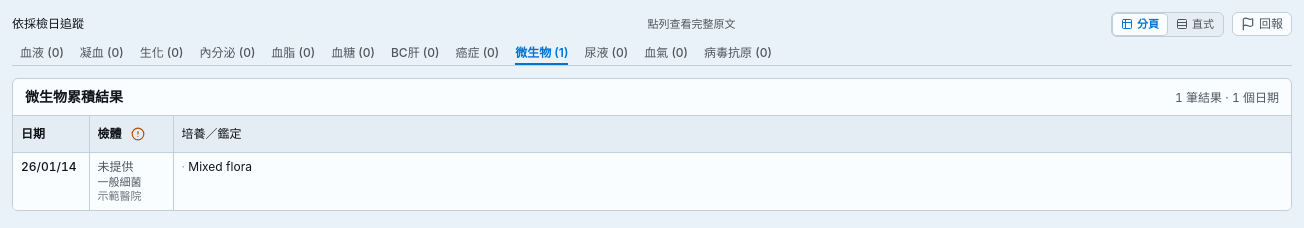
Test: MicrobiologyCumulativeView › keeps a missing specimen low-confidence without inventing one
Expected: the text "未提供" is shown, [98,158,134,174]
Click the button named "健保署資料未提供檢體來源，無法判斷結果來自痰、尿液或其他檢體；同日結果也不一定屬於同一份檢體。". click: (138, 134)
box: [126,122,150,146]
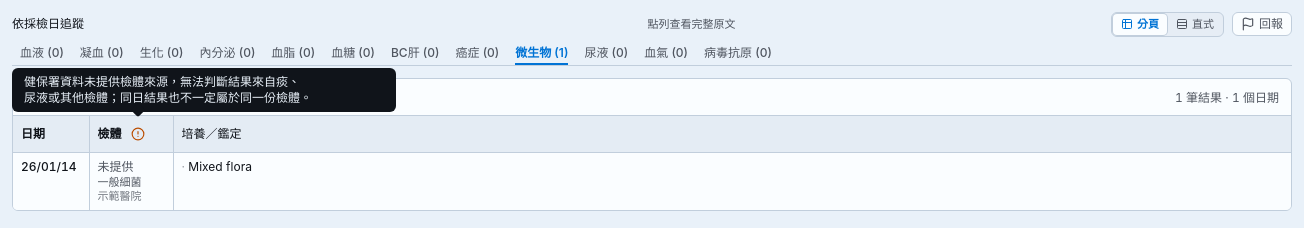
Result: the tooltip reads "健保署資料未提供檢體來源，無法判斷結果來自痰、尿液或其他檢體；同日結果也不一定屬於同一份檢體。" at [24,74,312,105]
